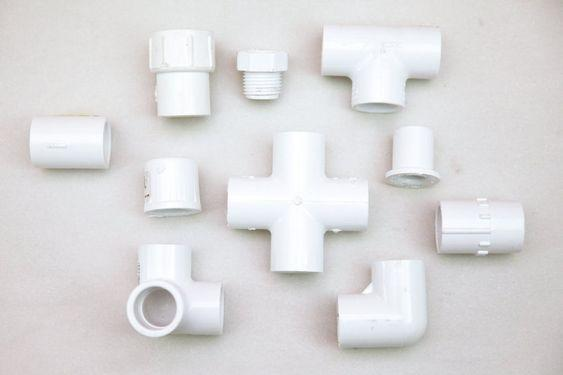PVC: (227, 130, 371, 273), (321, 25, 442, 115), (126, 244, 223, 339), (338, 260, 428, 349), (148, 28, 214, 118), (434, 198, 526, 256), (29, 115, 112, 169), (143, 157, 202, 217), (385, 127, 441, 189), (236, 49, 289, 100)
